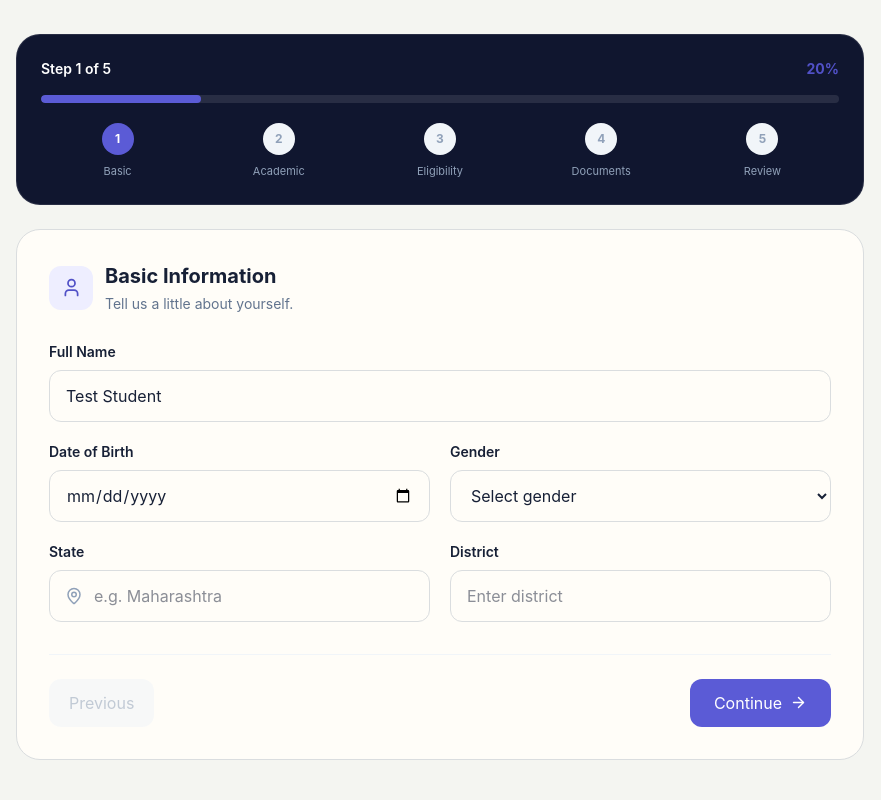
authentication and guards › shows an edit action instead of complete after a student profile is already complete
(page scrolled)
Click the button "Continue" at (760, 702), box left=690, top=678, right=831, bottom=726
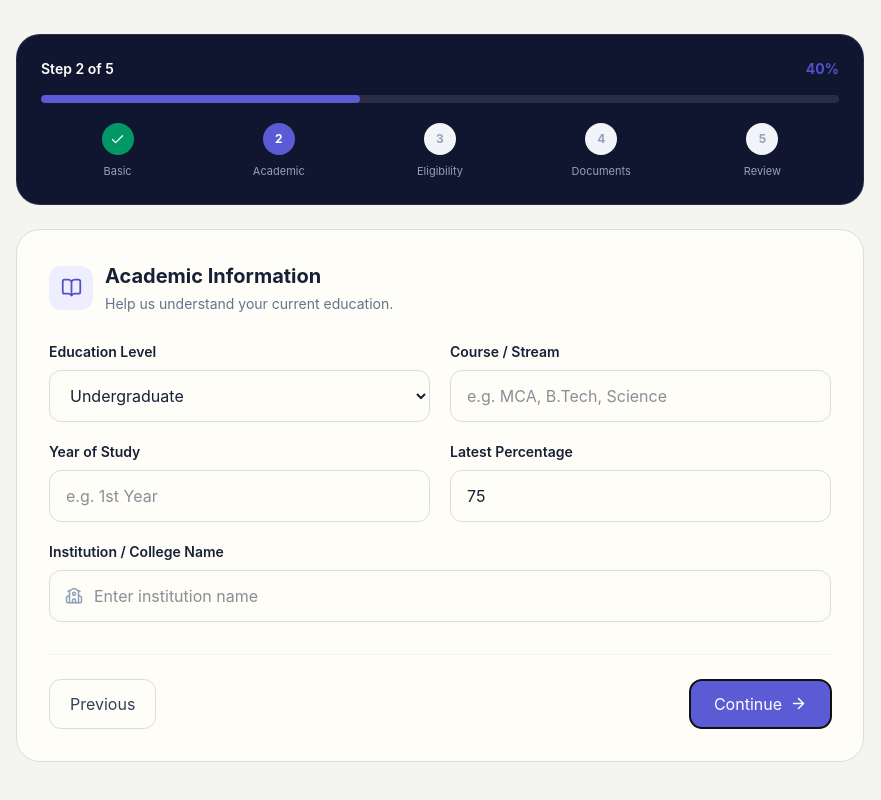
Click the button "Continue" at (760, 704), box left=690, top=680, right=831, bottom=728
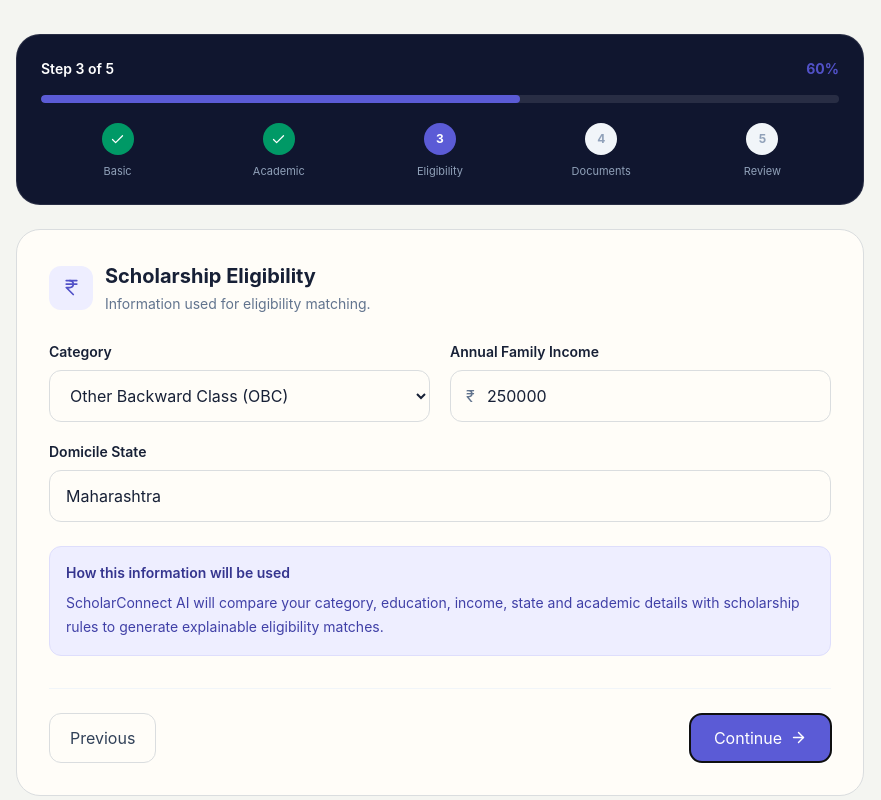
Click the button "Continue" at (760, 738), box left=690, top=714, right=831, bottom=762
(page scrolled)
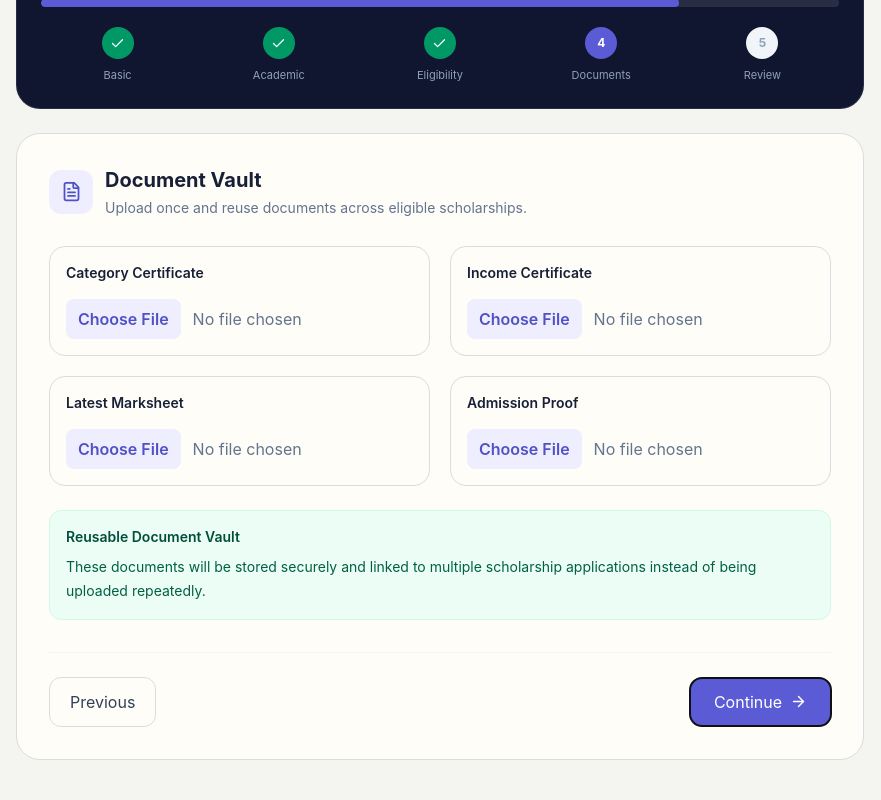
Click the button "Continue" at (760, 702), box left=690, top=678, right=831, bottom=726
(page scrolled)
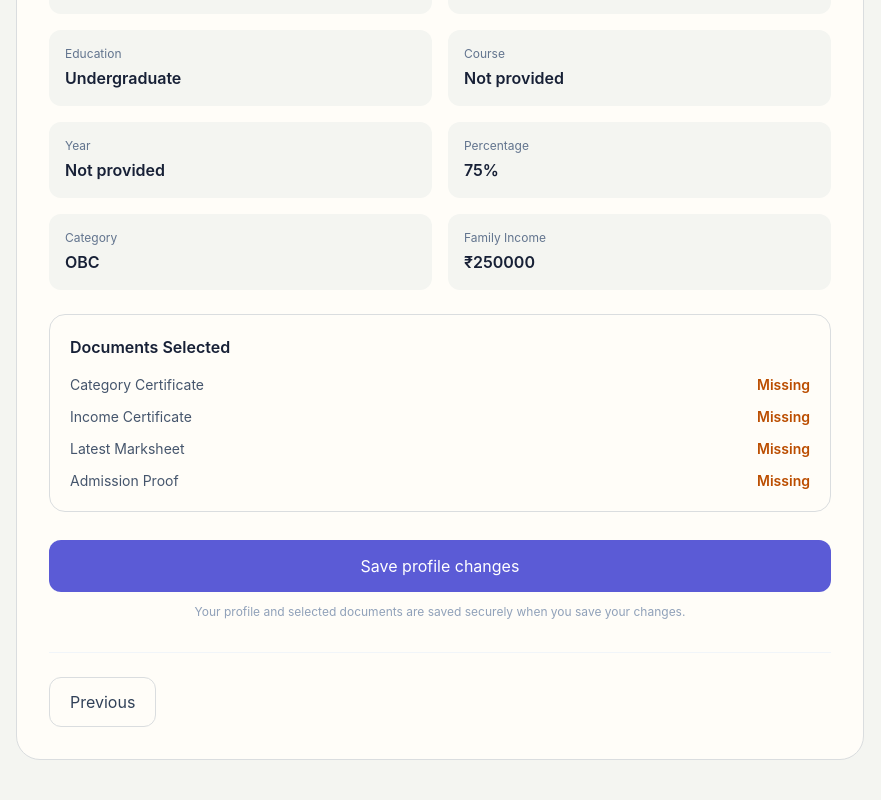
Now the button "Save profile changes" is shown, box left=49, top=540, right=831, bottom=592
